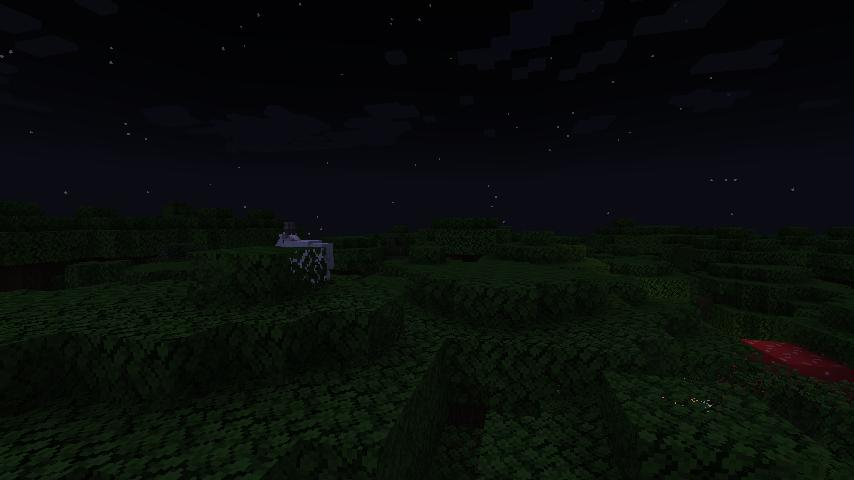goat: (274, 221, 337, 283)
